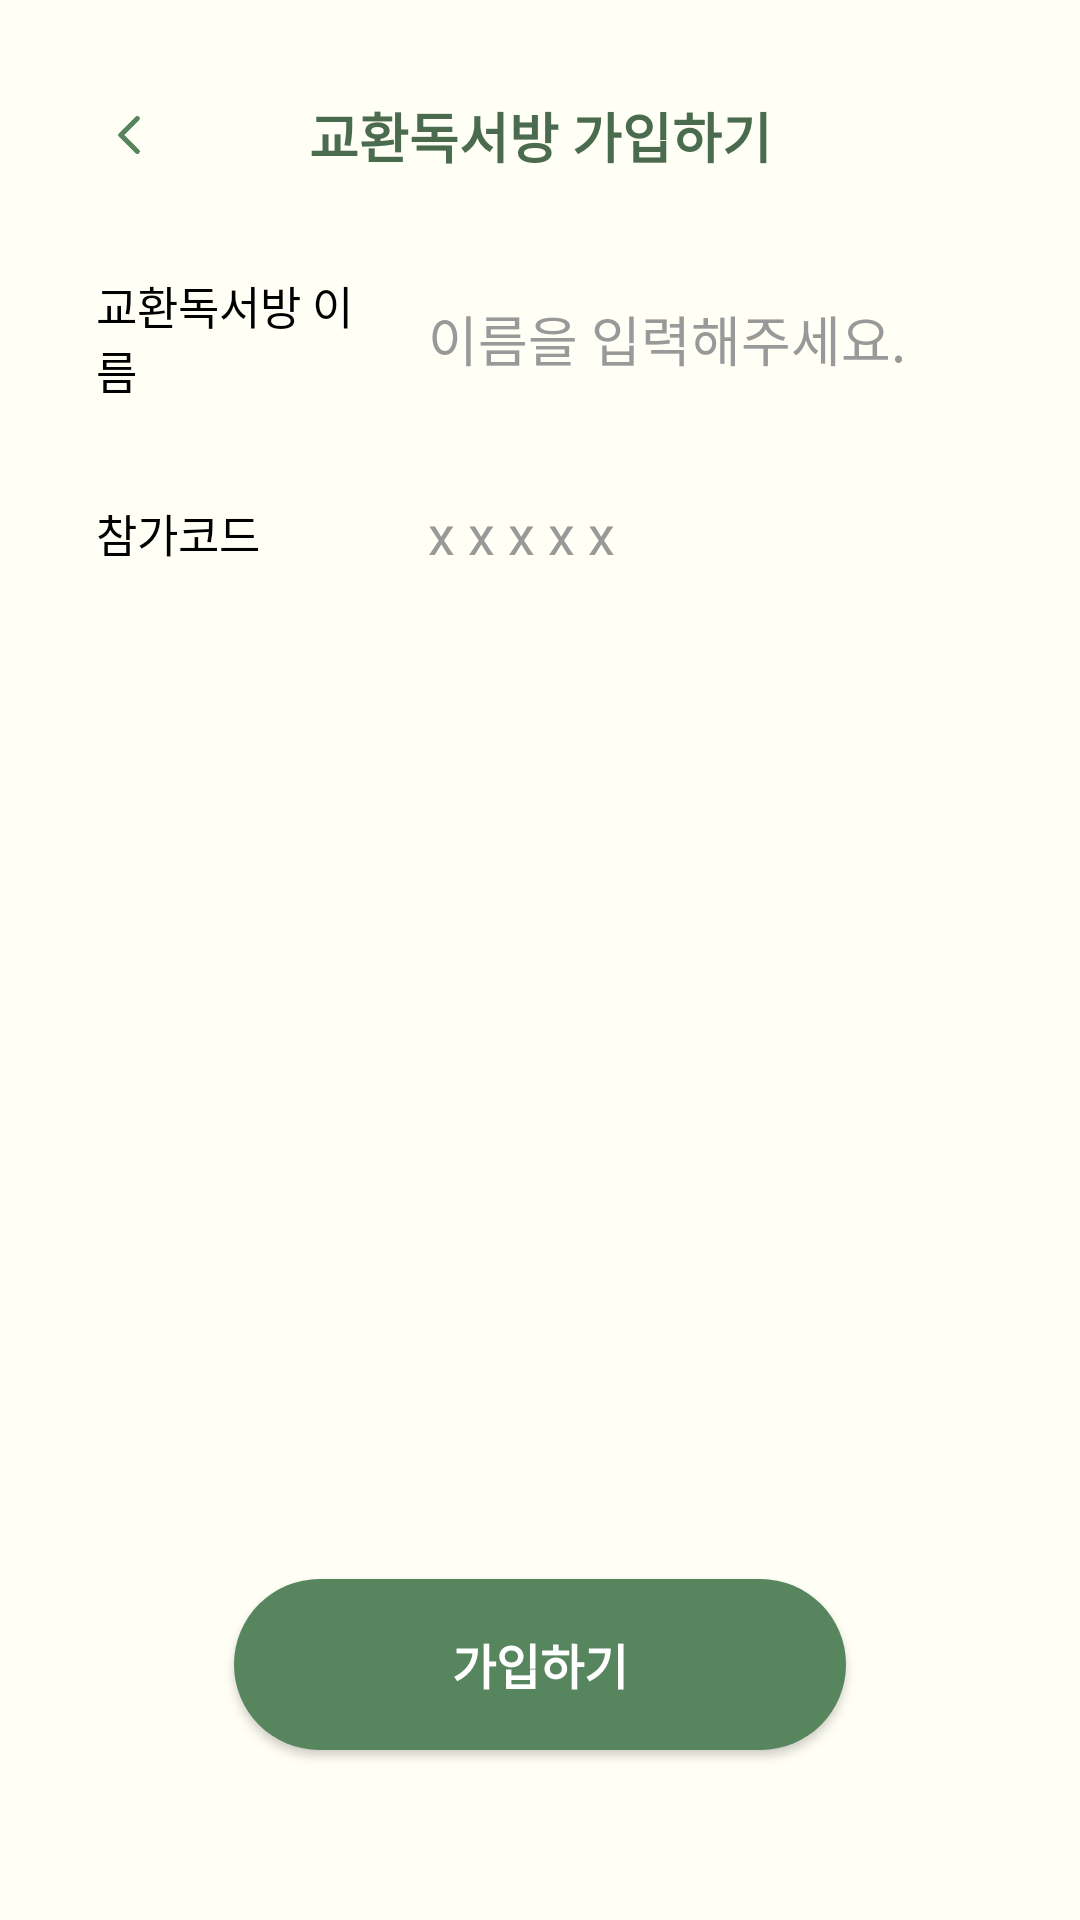

Screen size 1080px x 1920px. Icon name, then its box in pixels as (x1, y1, x2, y2):
뒤로가기: (118, 116, 140, 154)
